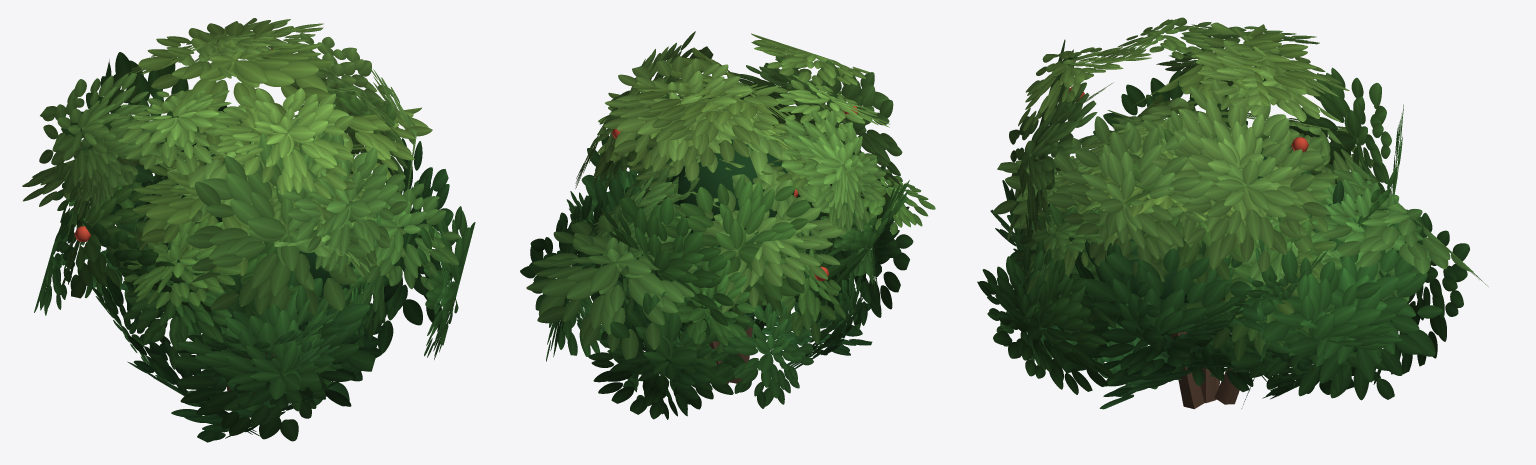
File: bush_berry_lod1.gltf
The picture shows the model from 3 angles, left to right: view 1: azimuth 30°, elevation 25°; view 2: azimuth 150°, elevation 25°; view 3: azimuth 270°, elevation 25°; orthographic projection. The views are drawn at different scales.
Parts seen in each view (by area): view 1: Leaves_summer; view 2: Leaves_summer, Stems; view 3: Leaves_summer, Stems.
Boxes of the visible parts, left/top/right/bottom form: Leaves_summer: left=22, top=18, right=475, bottom=442; Leaves_summer: left=520, top=31, right=935, bottom=419; Stems: left=612, top=106, right=858, bottom=383; Leaves_summer: left=977, top=17, right=1488, bottom=409; Stems: left=1069, top=86, right=1308, bottom=409.
Bounding box in the file's own units: 1.74 × 1.69 × 2.22.
Materials: 3 (1 with a texture image).
